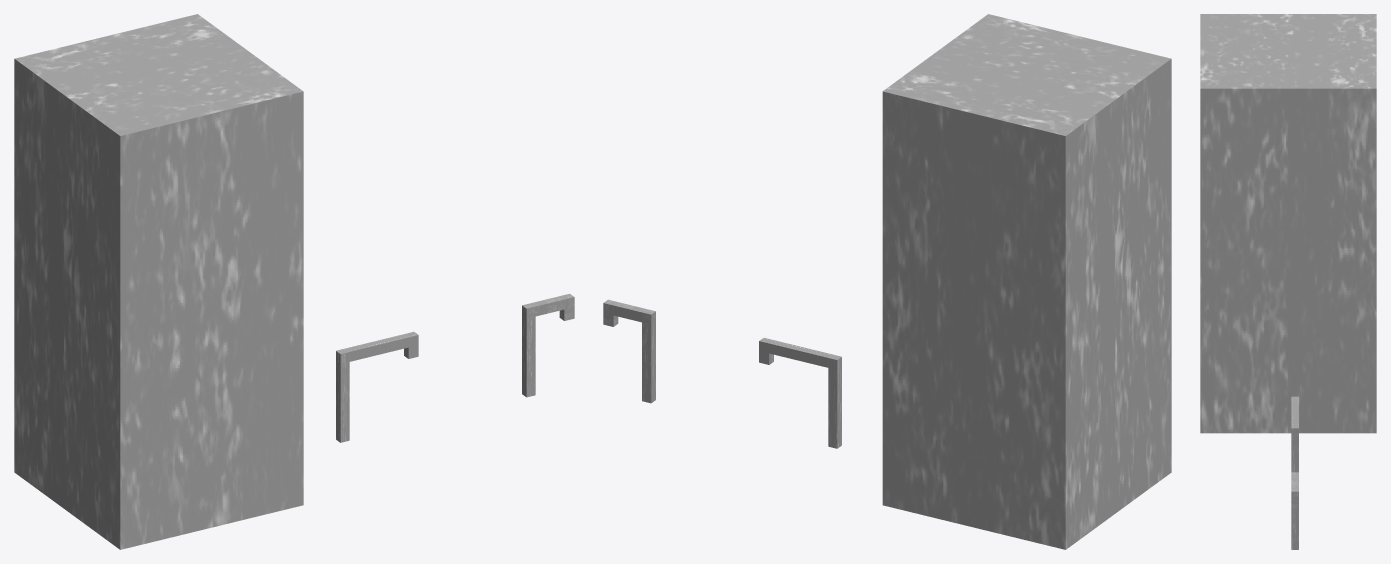
The model's file is city-tileset.glb.
The picture shows the model from 3 angles, left to right: view 1: azimuth 30°, elevation 25°; view 2: azimuth 150°, elevation 25°; view 3: azimuth 270°, elevation 25°; orthographic projection. The views are drawn at different scales.
Parts seen in each view (by area): view 1: Building, Traffic Light, Street Light; view 2: Building, Traffic Light, Street Light; view 3: Building, Street Light, Traffic Light.
Boxes of the visible parts, box(x1,y1,x2,y2) form: Building: box(14, 14, 303, 549); Traffic Light: box(336, 331, 418, 442); Street Light: box(522, 293, 574, 397); Building: box(882, 14, 1171, 549); Traffic Light: box(759, 337, 841, 448); Street Light: box(603, 299, 655, 403); Building: box(1200, 14, 1376, 433); Street Light: box(1291, 472, 1298, 549); Traffic Light: box(1291, 396, 1298, 472).
Bounding box in the file's own units: 5.55 × 4.32 × 2.
Materials: 1 (1 with a texture image).
